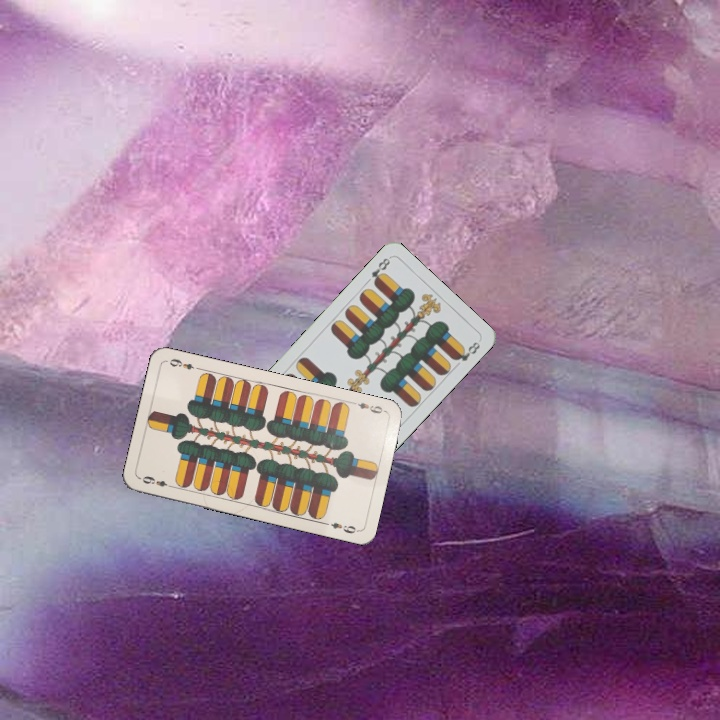E8: (367, 254, 393, 288)
E9: (137, 472, 177, 490), (348, 398, 388, 416)
